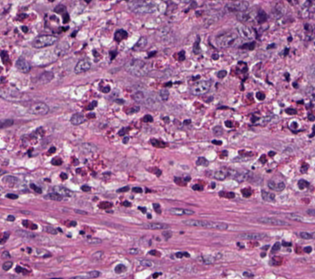nucleus: (125, 59, 152, 76), (182, 219, 227, 229), (215, 32, 237, 47), (33, 35, 57, 48), (192, 80, 210, 94), (257, 217, 288, 225), (29, 102, 48, 114), (74, 59, 90, 73), (238, 232, 266, 240), (196, 255, 220, 264), (143, 95, 159, 108), (55, 41, 68, 56), (53, 186, 72, 196), (159, 28, 173, 41), (175, 264, 195, 273), (133, 37, 146, 50), (39, 71, 53, 83), (169, 208, 193, 215), (145, 222, 168, 229), (213, 169, 229, 179), (114, 29, 127, 41), (70, 113, 84, 124), (45, 192, 63, 200), (261, 190, 274, 201), (132, 91, 144, 101), (150, 139, 165, 147), (86, 236, 101, 244), (286, 213, 303, 220), (241, 41, 255, 49), (159, 88, 168, 100), (114, 264, 126, 273), (174, 177, 187, 185), (298, 179, 308, 189), (30, 184, 41, 193), (193, 37, 199, 53), (140, 259, 153, 266), (271, 242, 280, 252), (271, 256, 281, 265), (128, 105, 139, 113), (92, 251, 103, 259), (299, 232, 313, 238), (275, 181, 284, 190), (51, 157, 61, 165), (197, 157, 207, 165), (87, 271, 100, 277), (45, 227, 56, 234), (219, 192, 234, 197), (217, 70, 226, 78), (256, 91, 264, 100), (87, 101, 96, 109), (267, 180, 275, 189), (241, 188, 250, 196), (99, 202, 111, 208), (175, 252, 189, 257), (178, 50, 184, 61), (128, 248, 139, 254), (74, 209, 87, 214), (213, 126, 221, 134), (143, 115, 152, 122), (118, 128, 127, 135), (153, 203, 160, 212), (286, 108, 296, 114), (243, 271, 253, 277), (101, 85, 109, 92), (47, 147, 55, 154), (117, 186, 128, 191), (192, 184, 202, 189), (149, 250, 159, 255), (225, 120, 232, 127), (110, 51, 116, 59), (239, 151, 251, 155), (259, 155, 265, 163), (81, 185, 89, 191), (162, 232, 170, 238), (132, 187, 141, 192), (152, 272, 161, 277), (290, 122, 297, 128), (307, 209, 314, 215), (304, 246, 311, 252), (212, 140, 221, 144), (60, 173, 66, 179), (212, 54, 218, 59), (139, 207, 145, 212), (148, 52, 155, 56), (123, 201, 130, 205), (252, 117, 257, 122), (123, 137, 128, 142), (284, 48, 288, 54), (285, 73, 289, 79), (309, 114, 313, 120), (282, 242, 290, 245), (269, 151, 274, 155), (88, 114, 94, 117)
